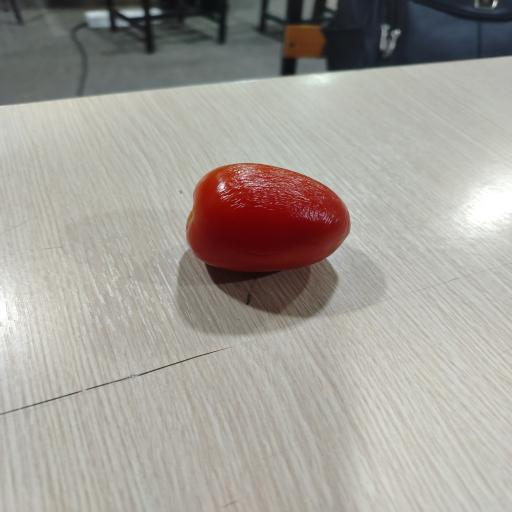spoiled: (186, 163, 350, 272)
